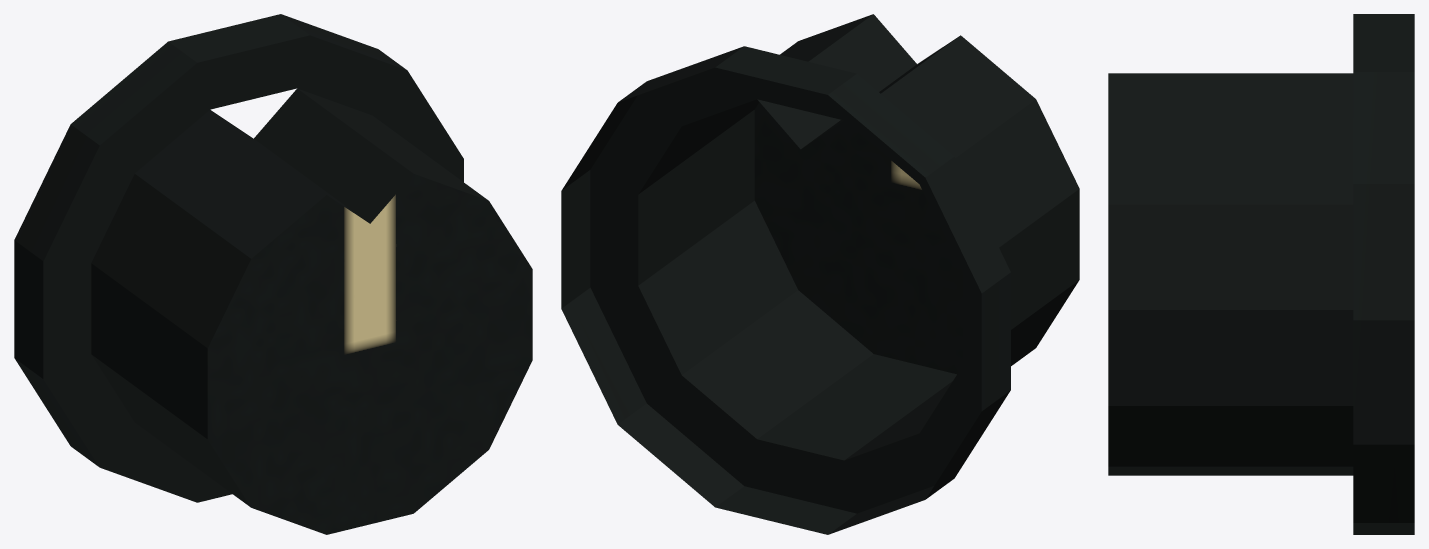
Rendered from SM_LabPanel_Dial_10x10x6.fbx.
3 views of the same model, side by side, from view 1: azimuth 30°, elevation 25°; view 2: azimuth 150°, elevation 25°; view 3: azimuth 270°, elevation 25° (orthographic). The views are drawn at different scales.
Parts seen in each view (by area): view 1: SM_LabPanel_Dial_10x10x6.001; view 2: SM_LabPanel_Dial_10x10x6.001; view 3: SM_LabPanel_Dial_10x10x6.001.
Part boxes in pixels (left/top/right/bottom): SM_LabPanel_Dial_10x10x6.001: left=14, top=14, right=532, bottom=534; SM_LabPanel_Dial_10x10x6.001: left=561, top=14, right=1079, bottom=534; SM_LabPanel_Dial_10x10x6.001: left=1108, top=14, right=1414, bottom=534.
Size of the model in its own units: 0.1 by 0.1 by 0.06.
